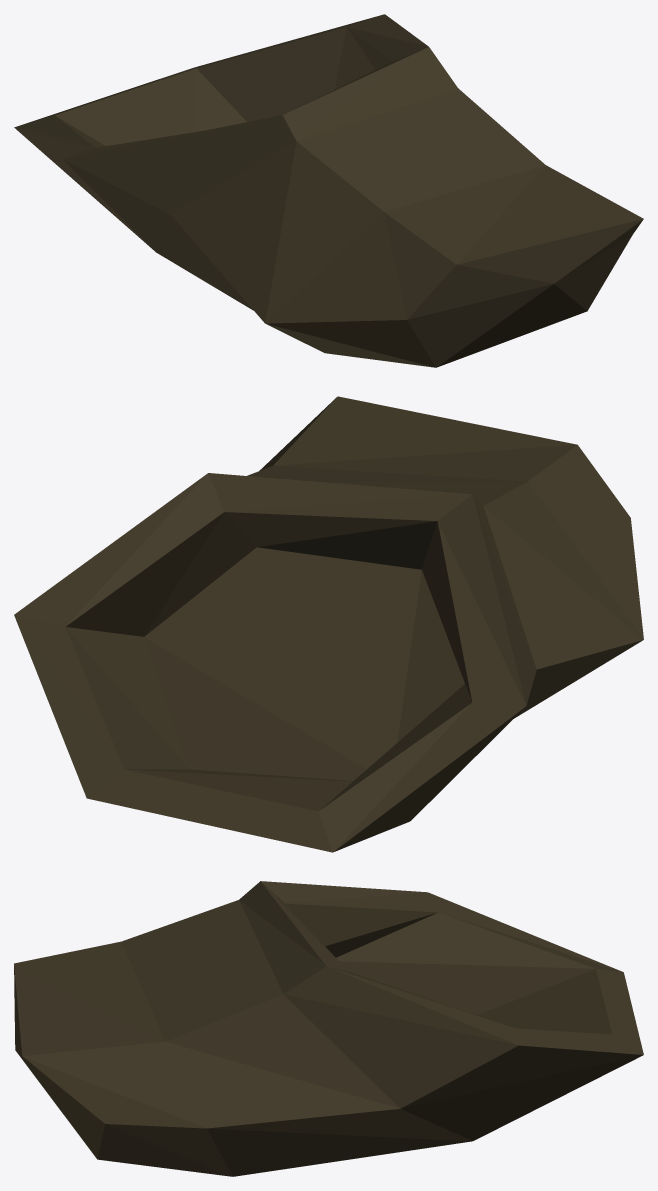
File: ITMI_ALCHEMY_SALT_01.OBJ
The picture shows the model from 3 angles, top to bottom: view 1: azimuth 30°, elevation 25°; view 2: azimuth 150°, elevation 25°; view 3: azimuth 270°, elevation 25°; orthographic projection. The views are drawn at different scales.
Visible parts, largest first — view 1: ITMI_ALCHEMY_SALT_01; view 2: ITMI_ALCHEMY_SALT_01; view 3: ITMI_ALCHEMY_SALT_01.
Boxes of the visible parts, x1,y1,x2,y2 form: ITMI_ALCHEMY_SALT_01: [14, 14, 643, 367]; ITMI_ALCHEMY_SALT_01: [14, 396, 643, 852]; ITMI_ALCHEMY_SALT_01: [14, 881, 643, 1176].
Bounding box in the file's own units: 0.142 × 0.0736 × 0.2038.
